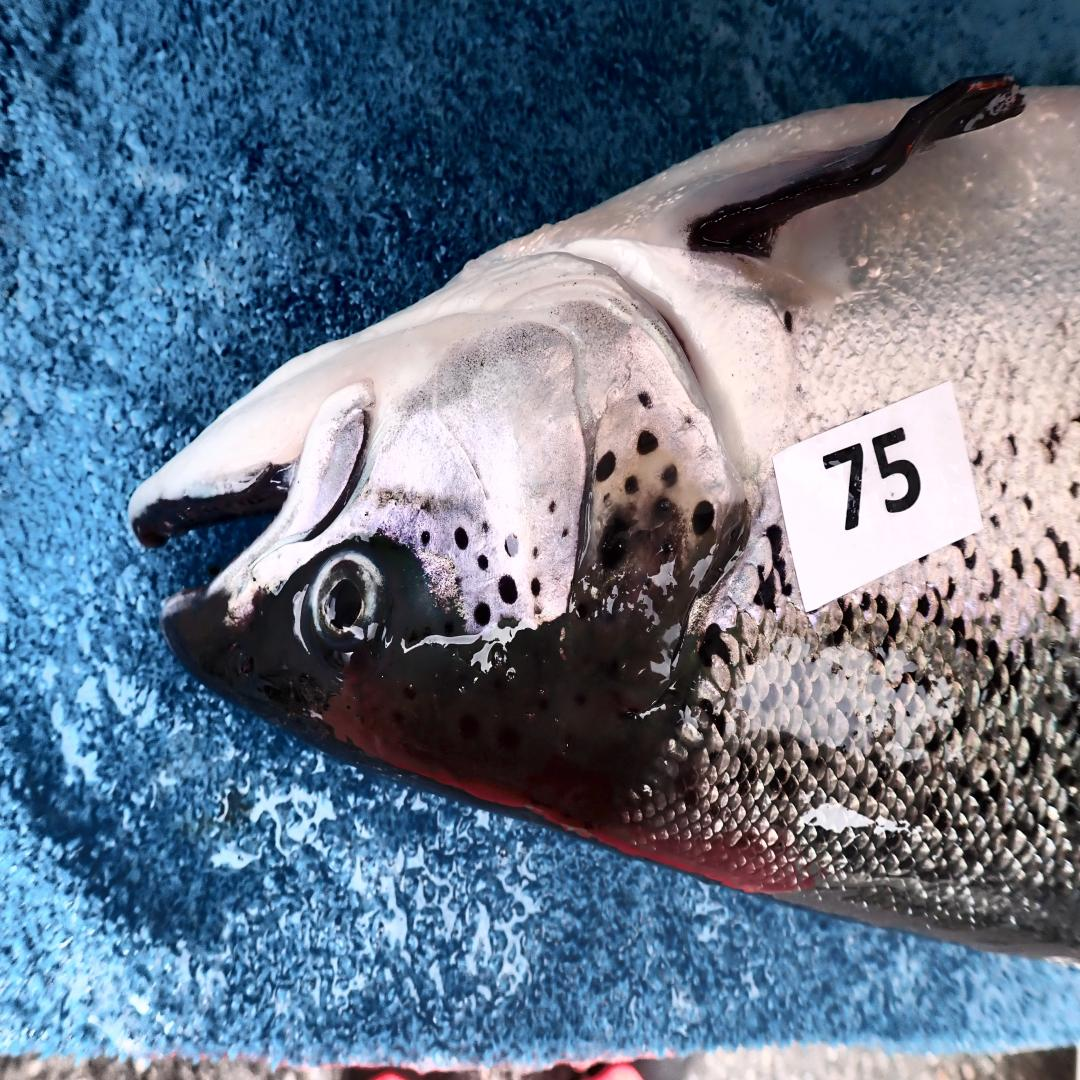spot: (596, 508, 652, 567), (692, 501, 715, 534), (651, 496, 677, 521), (595, 451, 616, 481), (498, 575, 518, 605), (637, 430, 658, 456), (474, 602, 491, 628), (660, 464, 677, 487), (504, 535, 518, 558), (454, 526, 468, 548), (624, 475, 639, 495), (498, 617, 520, 629), (638, 392, 652, 409), (530, 577, 540, 597), (477, 554, 488, 570), (420, 499, 431, 513), (420, 531, 430, 546), (482, 522, 490, 535), (534, 605, 544, 615), (684, 416, 693, 426), (549, 502, 556, 513), (561, 527, 568, 538), (603, 493, 610, 502), (533, 547, 538, 559)
